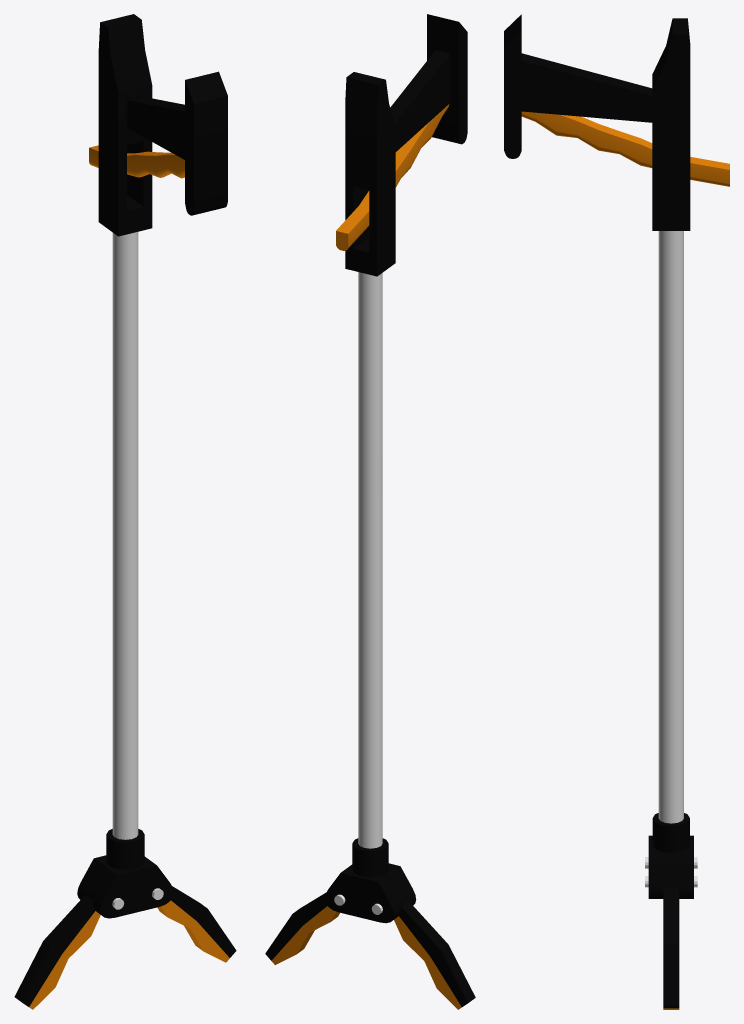
File: mechArm.fbx
The picture shows the model from 3 angles, left to right: view 1: azimuth 30°, elevation 25°; view 2: azimuth 150°, elevation 25°; view 3: azimuth 270°, elevation 25°; orthographic projection. The views are drawn at different scales.
Parts seen in each view (by area): view 1: Arm, Arm.002; view 2: Arm, Arm.002; view 3: Arm, Arm.002.
Part boxes in pixels (bbox=[...]): Arm: bbox=[89, 14, 227, 869]; Arm.002: bbox=[14, 855, 236, 1009]; Arm: bbox=[336, 14, 467, 877]; Arm.002: bbox=[265, 863, 475, 1009]; Arm: bbox=[504, 14, 729, 852]; Arm.002: bbox=[645, 835, 697, 1009].
Size of the model in its own units: 1.11 by 4.79 by 1.04.
